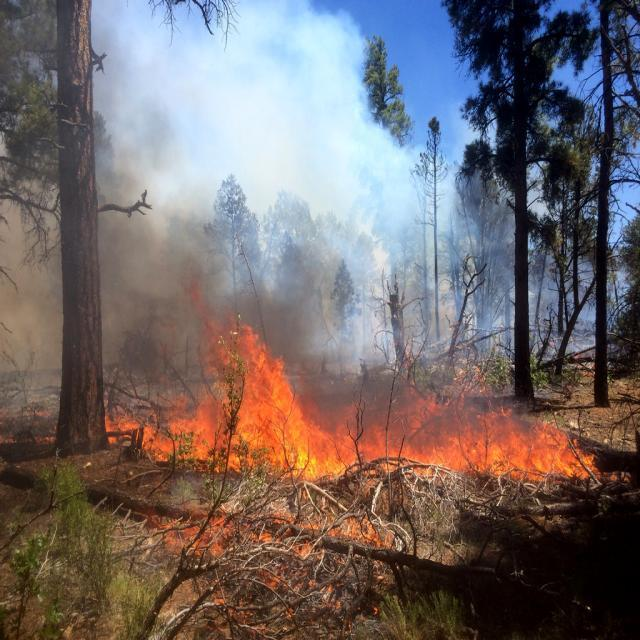Fire: (326, 422, 605, 487), (200, 322, 316, 467), (118, 408, 206, 458)
Smoke: (0, 12, 406, 382)
